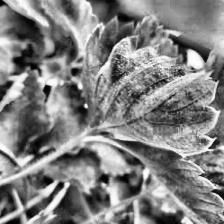Powdery Mildew Leaf: (85, 34, 221, 157)
